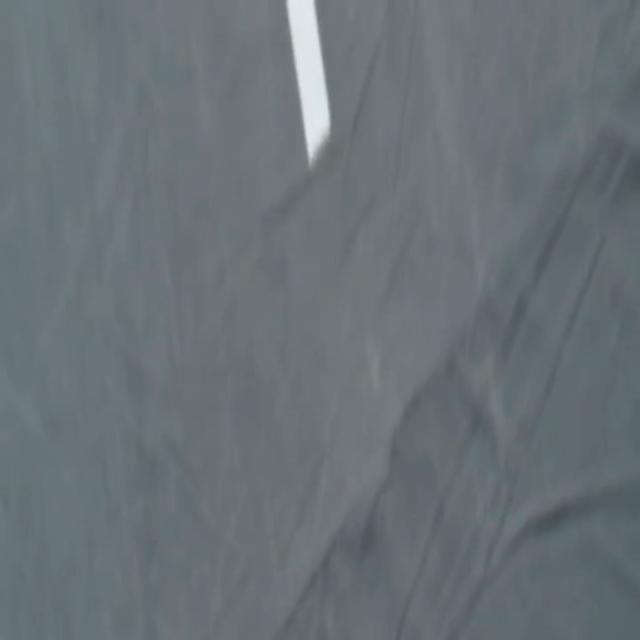center: (285, 0, 331, 166)
